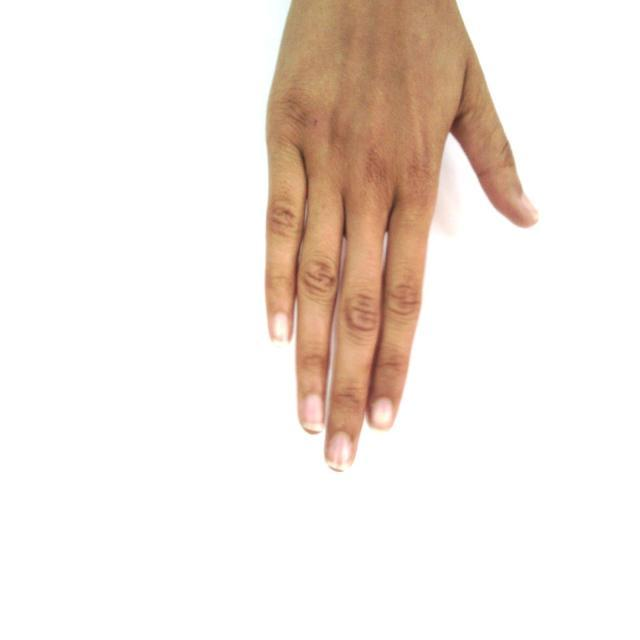Fingernail: (327, 432, 353, 471), (303, 396, 324, 431), (372, 398, 394, 429), (272, 313, 289, 347), (522, 195, 541, 220)
